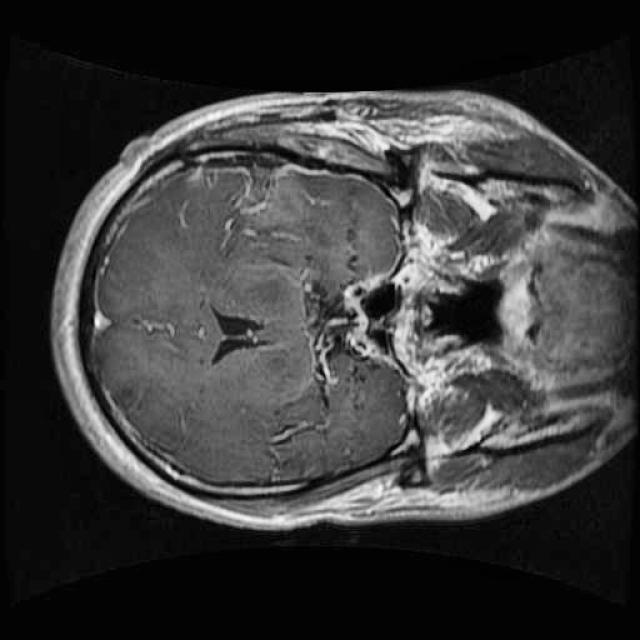Non-Tumor: (168, 155, 342, 275)
